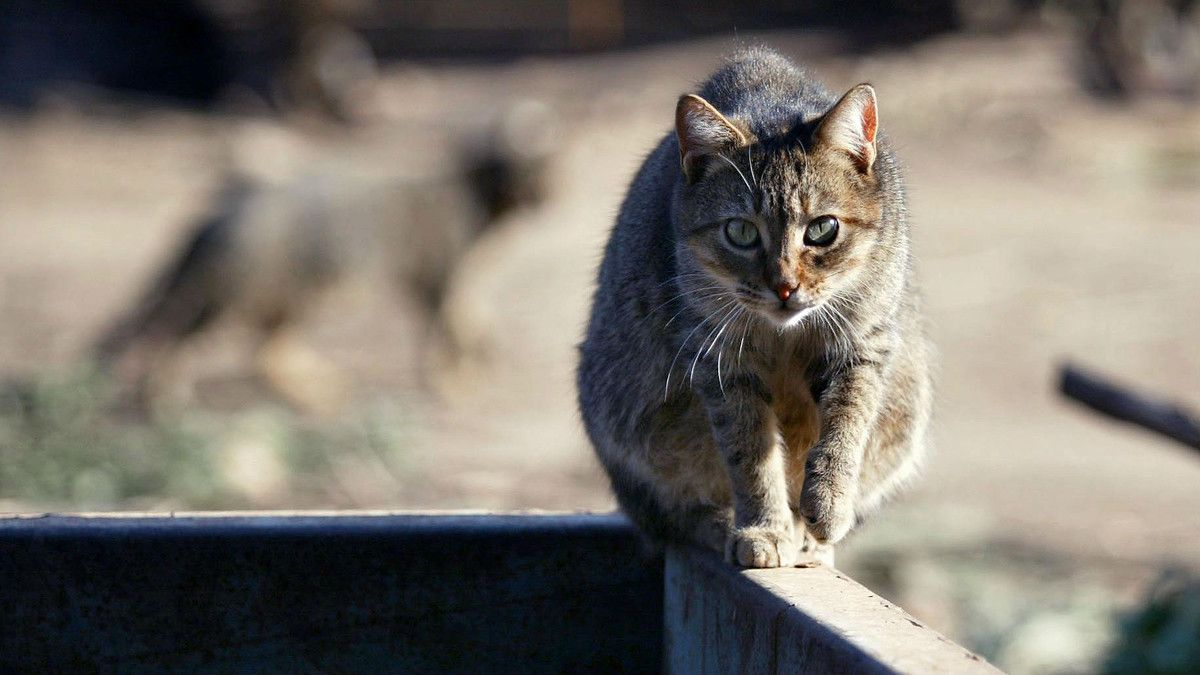cat: (562, 37, 960, 601)
